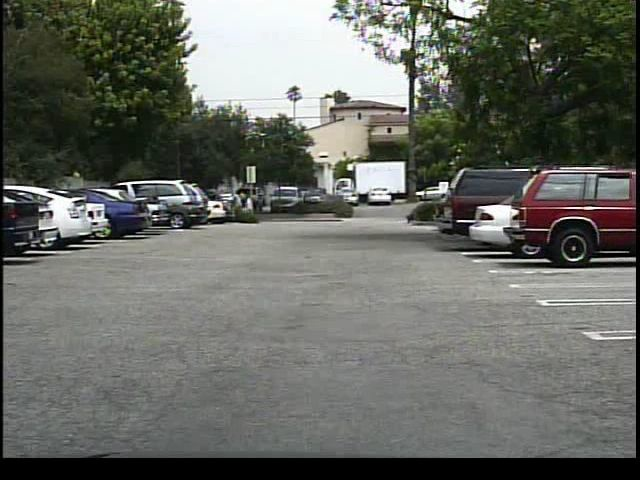person: (229, 187, 245, 218), (243, 190, 259, 218), (242, 187, 253, 218)
